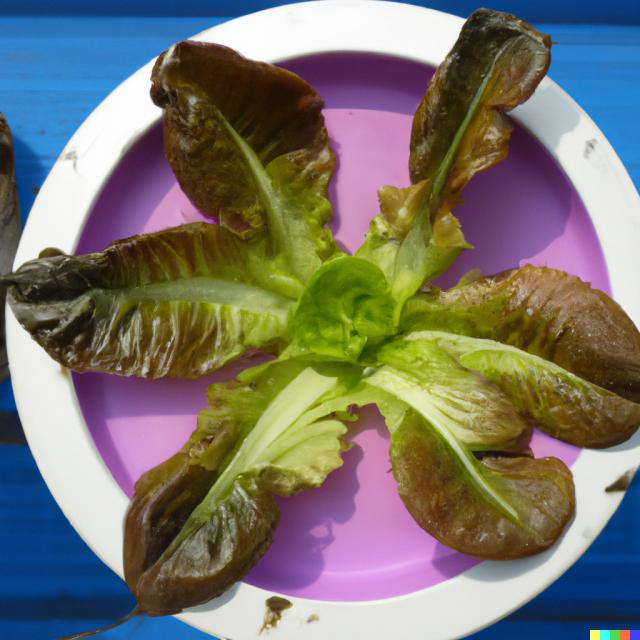-P: (0, 2, 640, 626)
